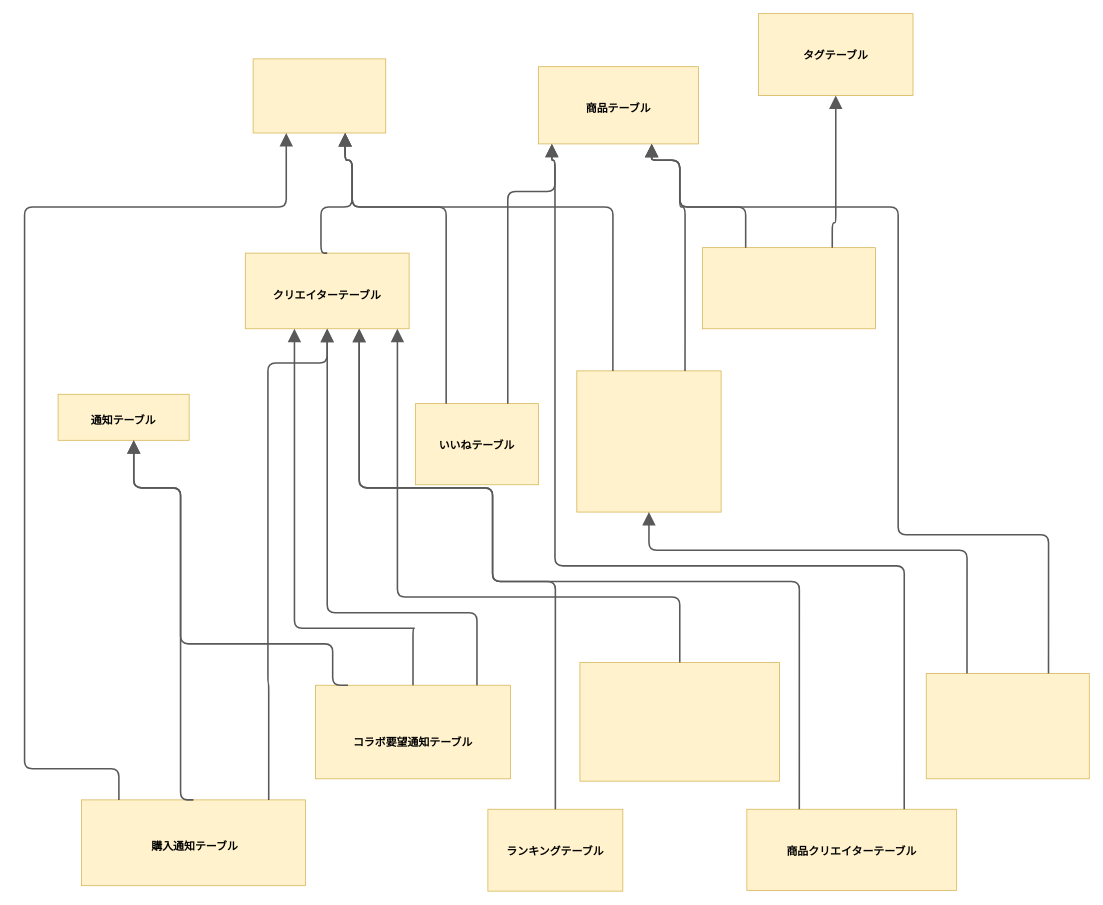
The diagram is 1103 pixels wide and 905 high, and some of its shapes have lost their labels. Each missing label, with the centre of its shape:
"クリエイター募集テーブル" goes at point (679, 721).
"シリアルコードテーブル" goes at point (1007, 726).
"ユーザーテーブル" goes at point (319, 95).
"商品タグテーブル" goes at point (789, 288).
"購入テーブル" goes at point (648, 441).
